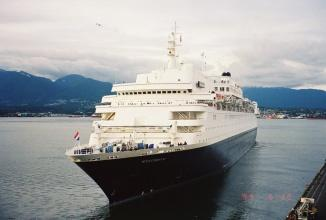youlun: (62, 58, 259, 203)
